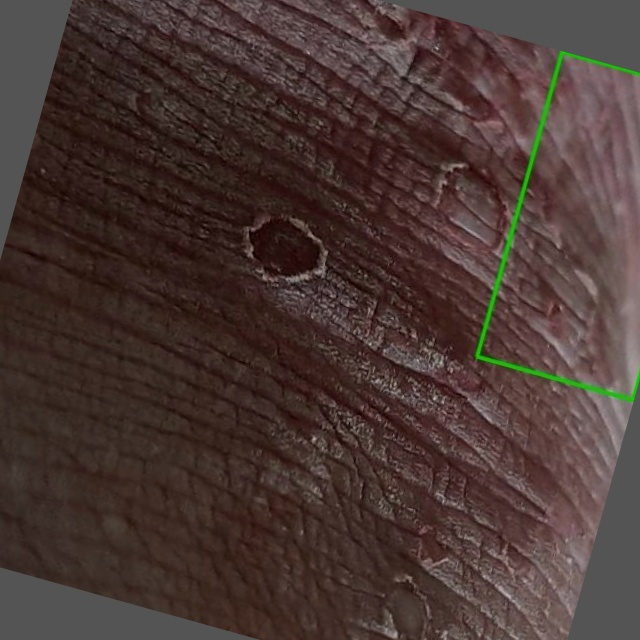Contact Dermatitis: (477, 52, 639, 400)
